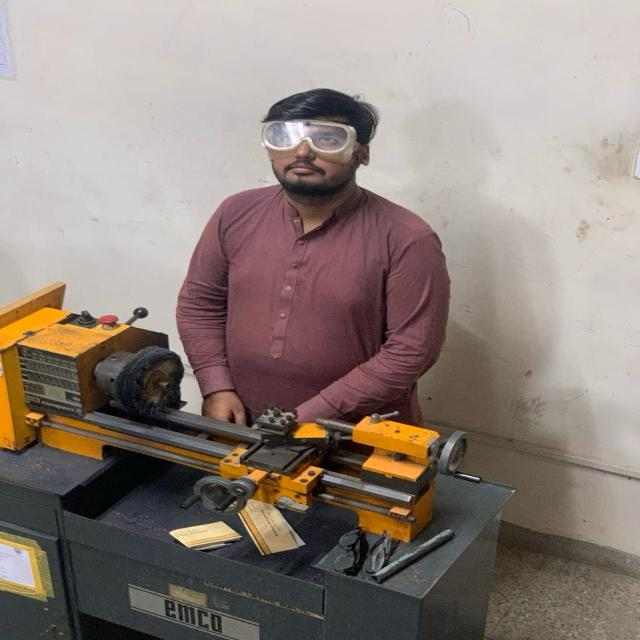googles: (258, 118, 356, 158)
